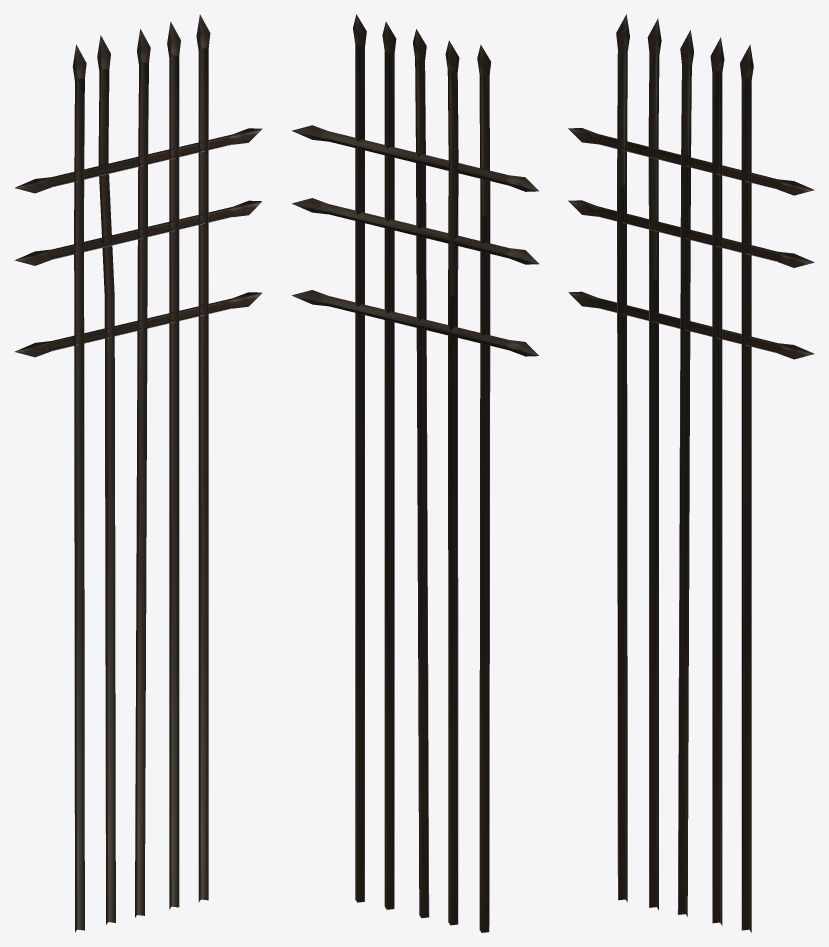
File: bar.FBX
3 views of the same model, side by side, from view 1: azimuth 30°, elevation 25°; view 2: azimuth 150°, elevation 25°; view 3: azimuth 330°, elevation 25° (orthographic).
Parts seen in each view (by area): view 1: bar; view 2: bar; view 3: bar.
Part boxes in pixels (x1,y1,x2,y2): bar: [14, 14, 262, 932]; bar: [291, 14, 538, 932]; bar: [568, 14, 814, 932].
Size of the model in its own units: 3.8 by 12.96 by 0.1932.
